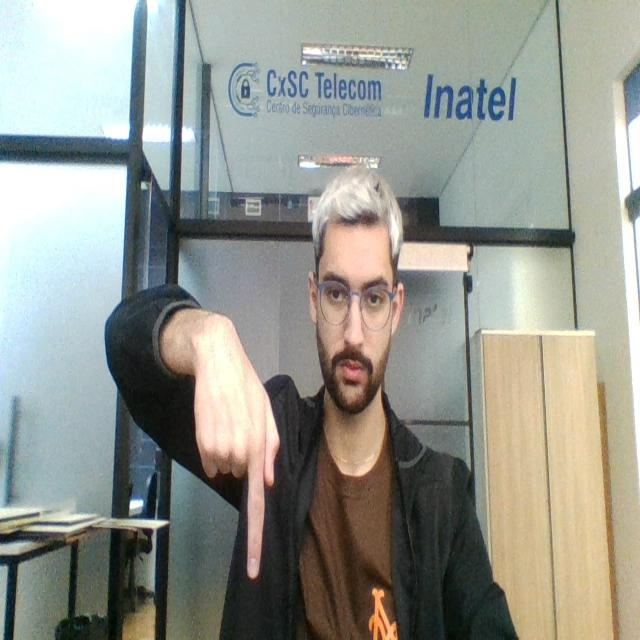Q: (191, 315, 280, 583)
